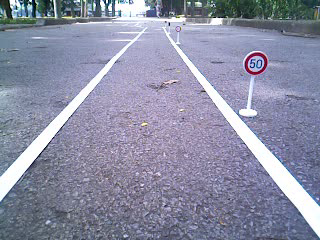limit 50: (243, 50, 268, 77)
